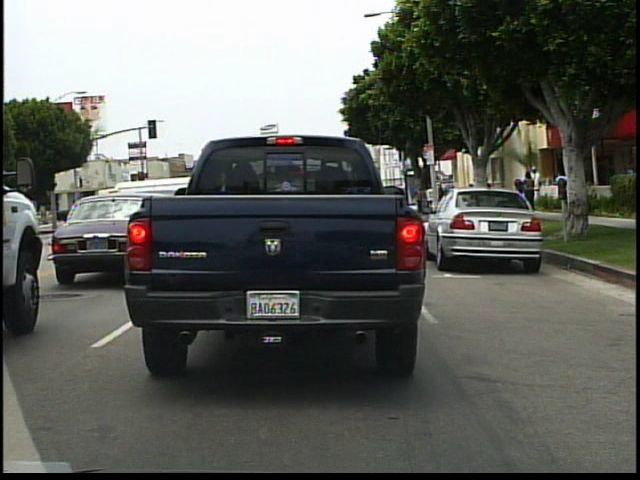person: (551, 167, 571, 212), (479, 172, 498, 212)
